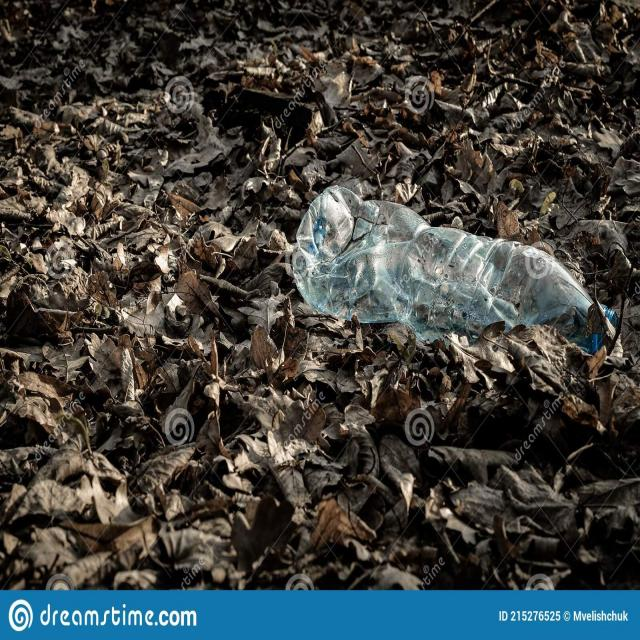bottle: (293, 178, 616, 385)
